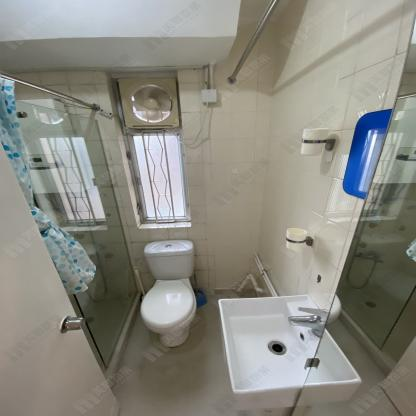Exhaust Fan: (117, 77, 180, 130)
Toilet: (138, 237, 198, 350)
Toilet Sink: (218, 295, 362, 411)
Water Cubicle: (0, 76, 144, 396)
